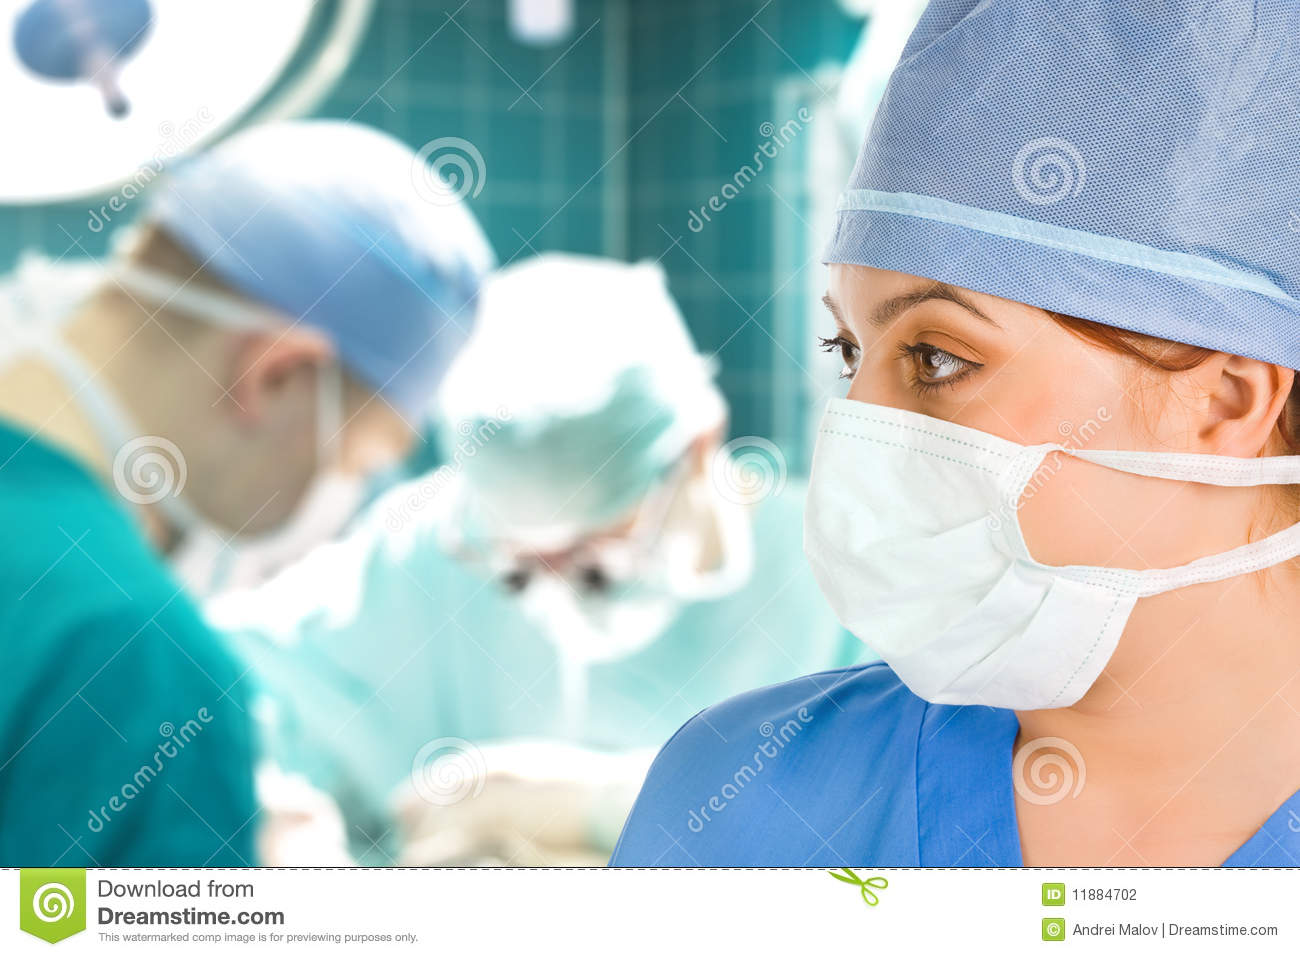mask: (786, 398, 1123, 692)
